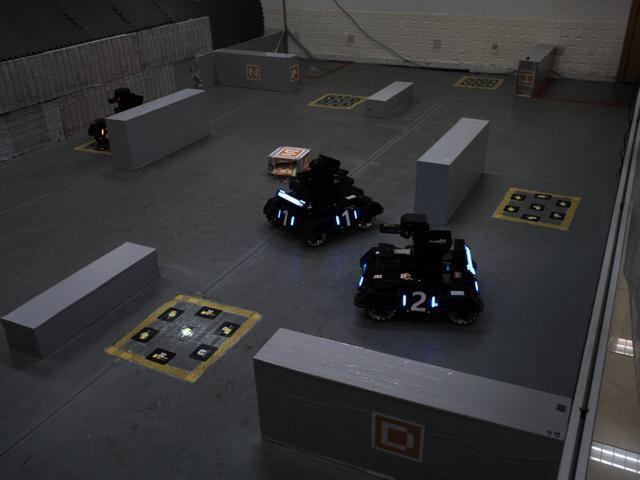armor: (397, 285, 441, 313), (329, 204, 360, 231), (273, 205, 297, 231)
